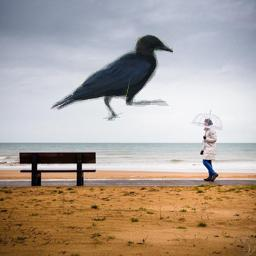Crow: (50, 34, 173, 121)
